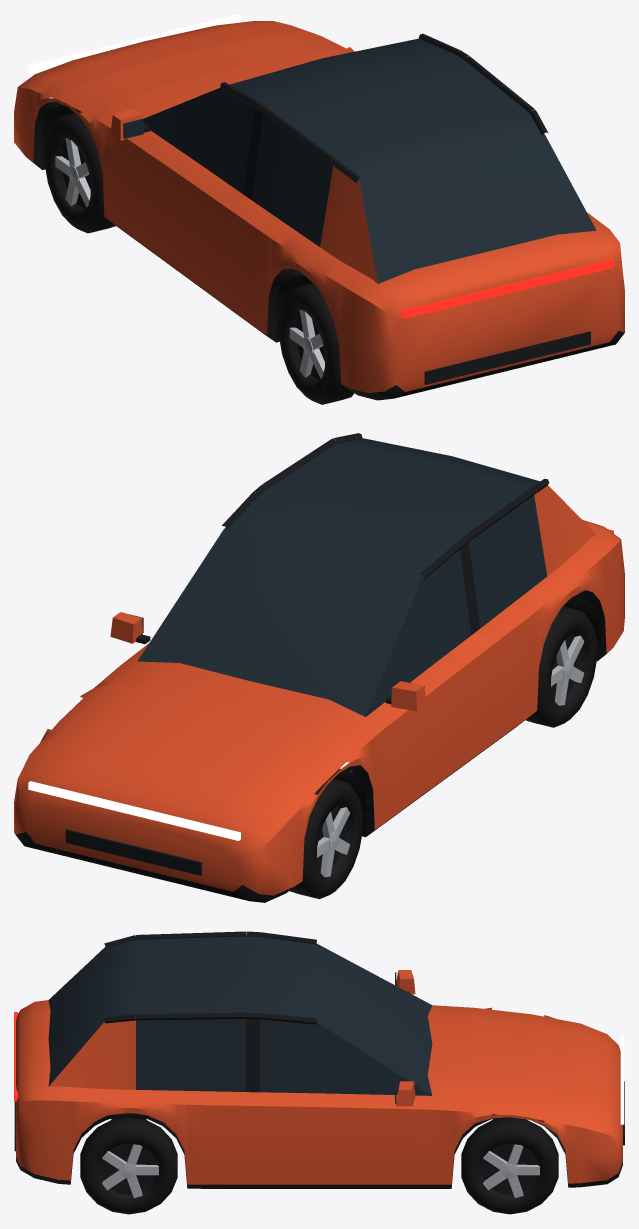
The model's file is player-car.glb.
The picture shows the model from 3 angles, top to bottom: view 1: azimuth 30°, elevation 25°; view 2: azimuth 150°, elevation 25°; view 3: azimuth 270°, elevation 25°; orthographic projection. The views are drawn at different scales.
Visible parts, largest first — view 1: body, wheel_RL, wheel_FL; view 2: body, wheel_FL, wheel_RL; view 3: body, wheel_RR, wheel_FR.
Boxes of the visible parts, x1,y1,x2,y2 form: body: [14, 14, 624, 400]; wheel_RL: [279, 283, 353, 404]; wheel_FL: [44, 111, 115, 233]; body: [14, 433, 624, 902]; wheel_FL: [290, 778, 362, 899]; wheel_RL: [525, 606, 596, 727]; body: [14, 931, 624, 1188]; wheel_RR: [80, 1117, 177, 1214]; wheel_FR: [461, 1117, 558, 1214].
Size of the model in its own units: 2.04 by 1.5 by 4.33.
